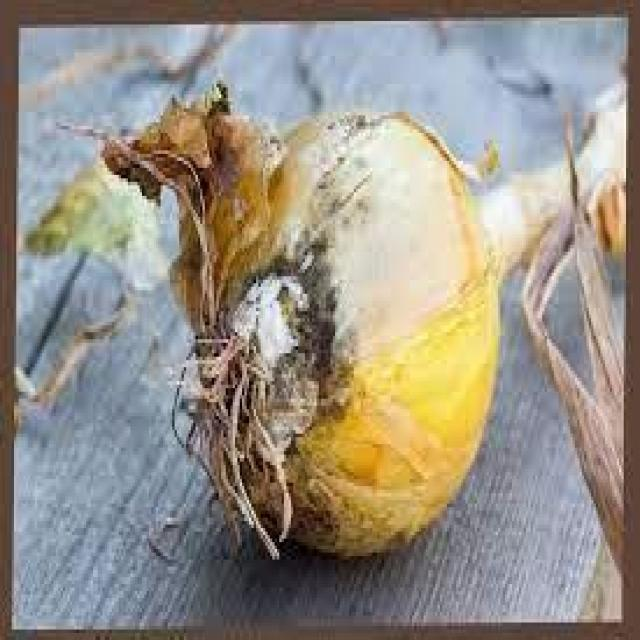Onion: (77, 61, 626, 565)
